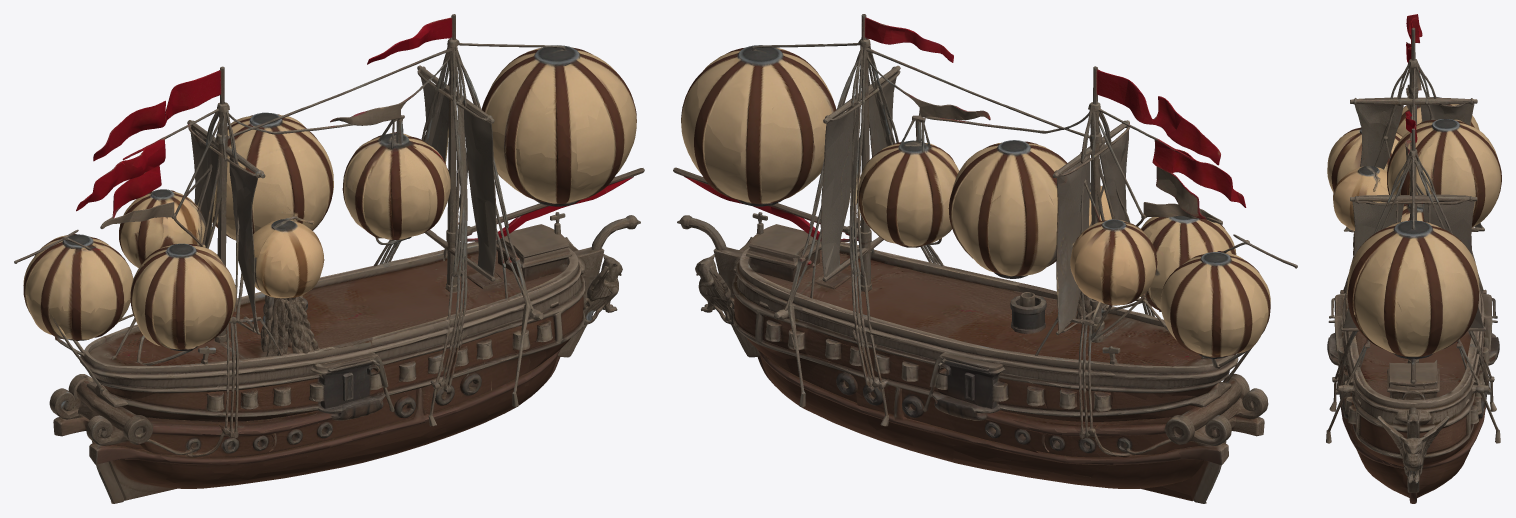
The picture shows the model from 3 angles, left to right: view 1: azimuth 30°, elevation 25°; view 2: azimuth 150°, elevation 25°; view 3: azimuth 270°, elevation 25°; orthographic projection. The views are drawn at different scales.
Parts seen in each view (by area): view 1: Mesh_0; view 2: Mesh_0; view 3: Mesh_0.
Part boxes in pixels (x1,y1,x2,y2): Mesh_0: [14, 14, 644, 503]; Mesh_0: [673, 14, 1297, 503]; Mesh_0: [1326, 14, 1501, 503].
Size of the model in its own units: 1.9 by 1.19 by 0.5382.
1 material, 1 textured.
